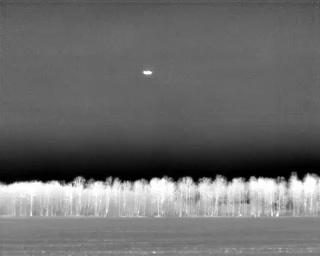DRONE: (140, 66, 156, 79)
